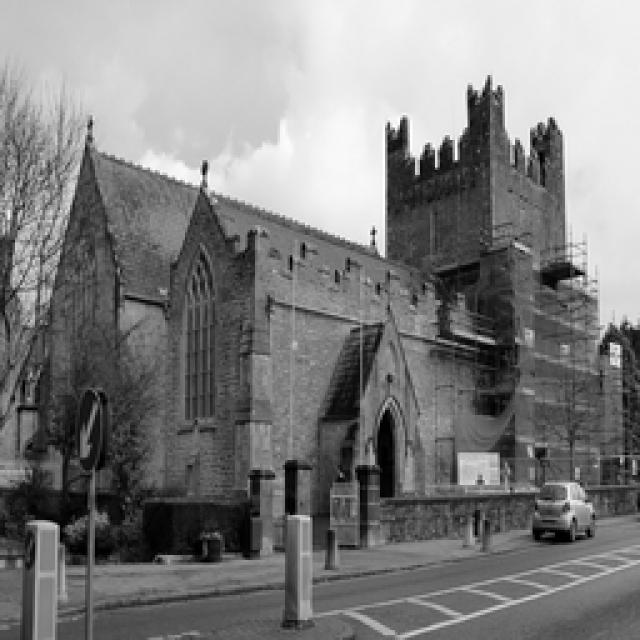Abbey: (55, 48, 640, 511)
